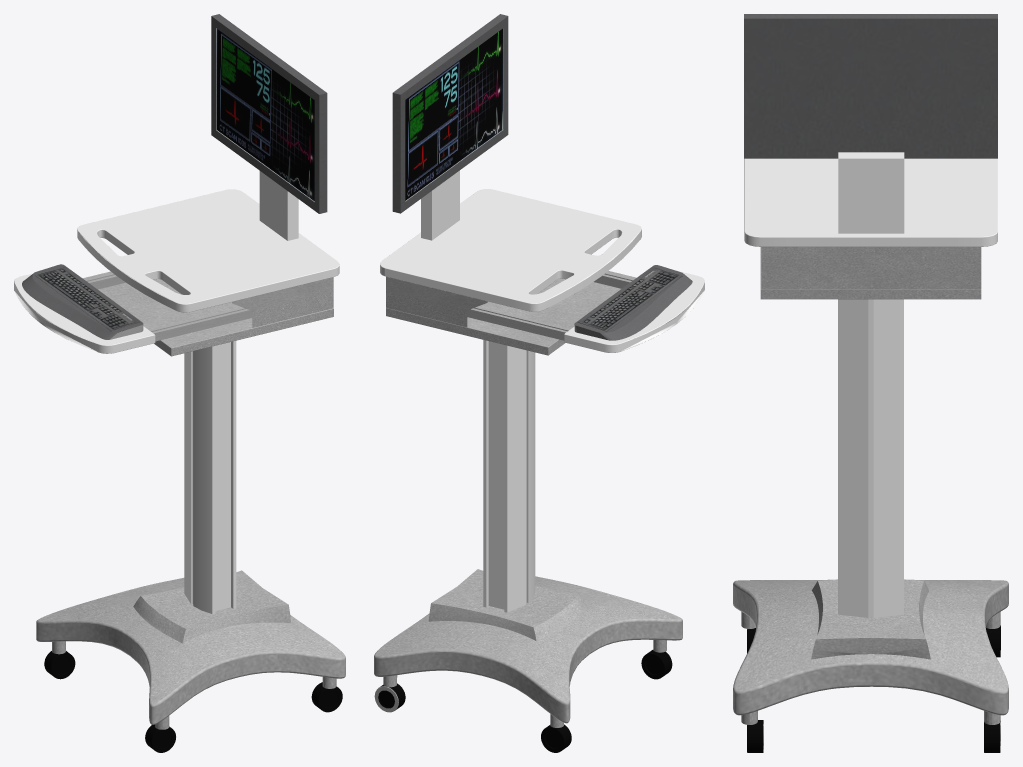
The model's file is portable_pc.FBX.
The picture shows the model from 3 angles, left to right: view 1: azimuth 30°, elevation 25°; view 2: azimuth 150°, elevation 25°; view 3: azimuth 270°, elevation 25°; orthographic projection. The views are drawn at different scales.
Visible parts, largest first — view 1: StandComputer; view 2: StandComputer; view 3: StandComputer.
Boxes of the visible parts, x1,y1,x2,y2 form: StandComputer: (14, 14, 345, 752); StandComputer: (374, 14, 704, 752); StandComputer: (733, 14, 1008, 752).
Bounding box in the file's own units: 0.6104 × 1.46 × 0.4998.
Materials: 6 (6 with a texture image).
